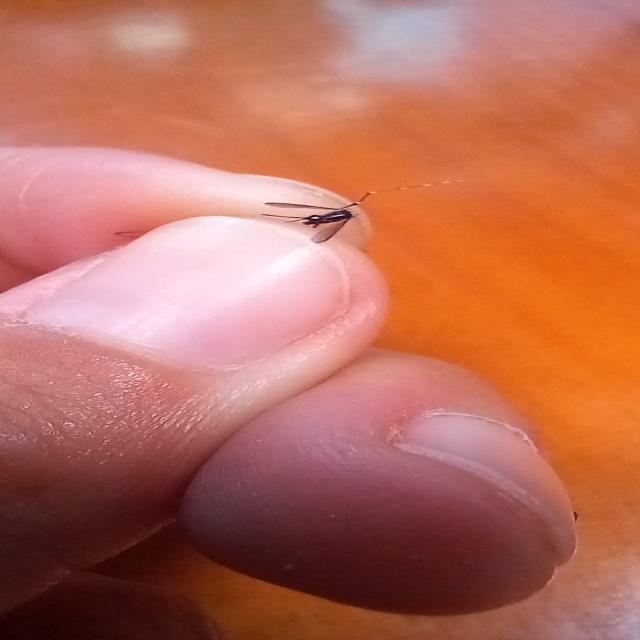albopictus: (252, 174, 455, 246)
